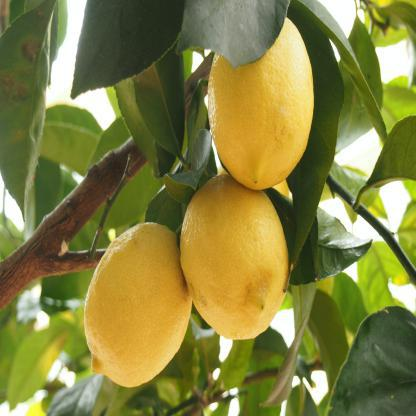lemon: (178, 166, 294, 344), (207, 11, 316, 196), (78, 218, 195, 390)
